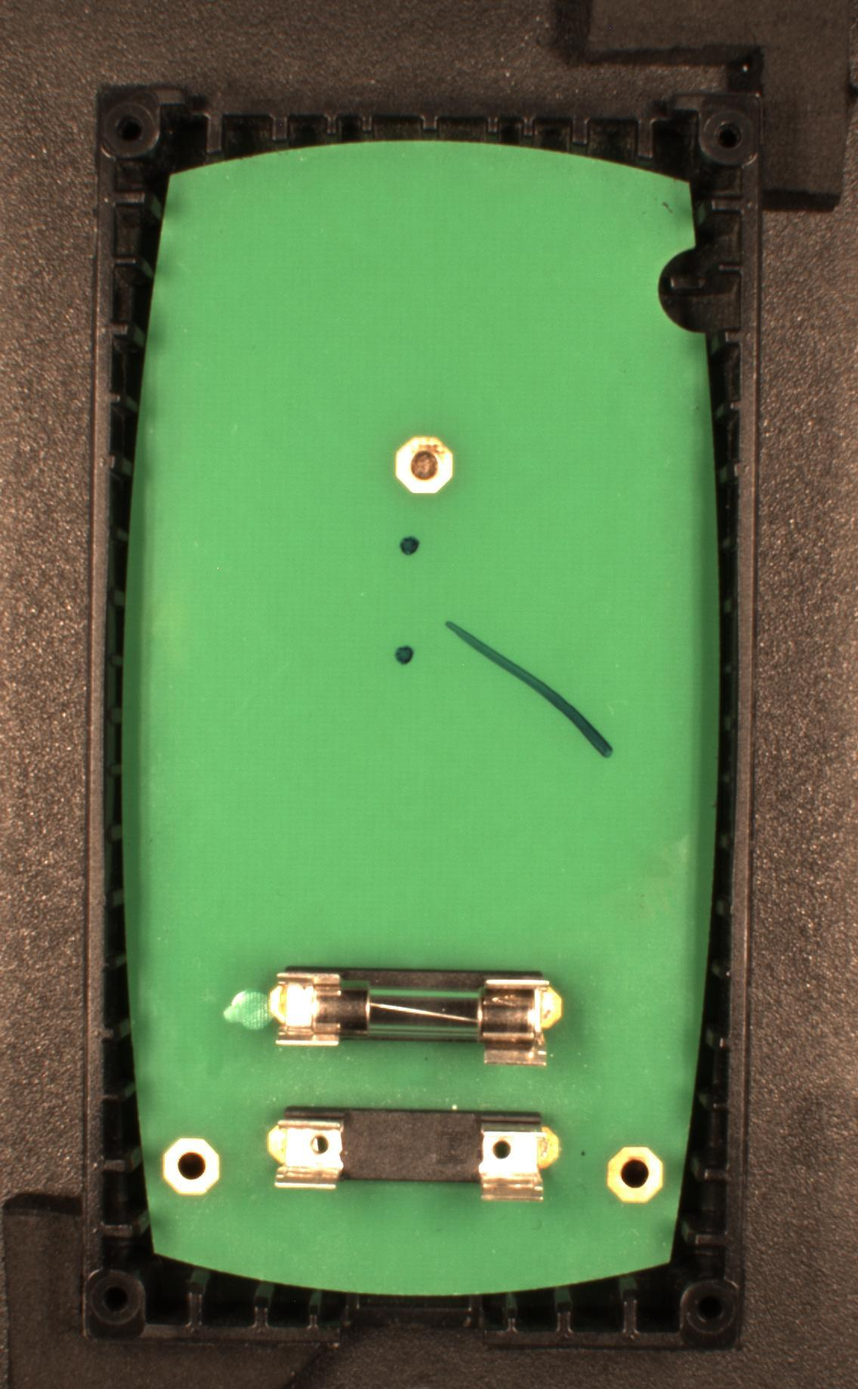Linijsko Ostecene: (444, 619, 614, 760)
Nepostojanje osiguraca: (266, 1105, 563, 1203)
Tockasto Ostecenje: (393, 643, 417, 665), (399, 535, 423, 557)
